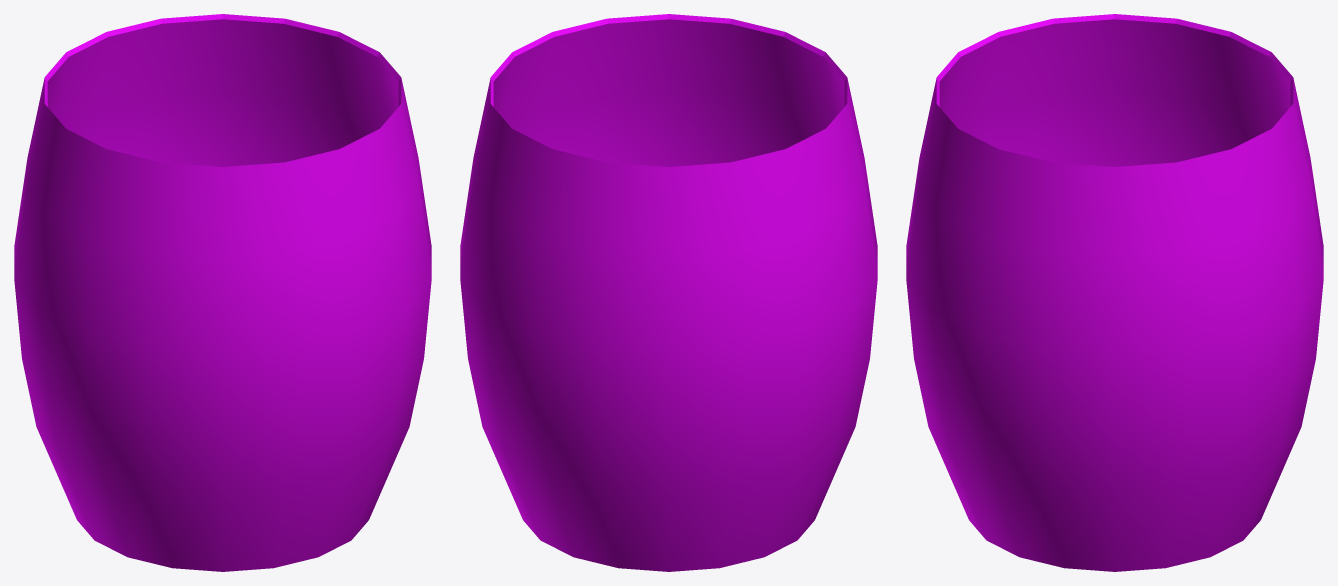
The model's file is Cup.FBX.
The picture shows the model from 3 angles, left to right: view 1: azimuth 30°, elevation 25°; view 2: azimuth 150°, elevation 25°; view 3: azimuth 270°, elevation 25°; orthographic projection.
Visible parts, largest first — view 1: Potion 004; view 2: Potion 004; view 3: Potion 004.
Part boxes in pixels (x1=…): Potion 004: x1=14, y1=14, x2=431, y2=571; Potion 004: x1=460, y1=14, x2=877, y2=571; Potion 004: x1=906, y1=14, x2=1323, y2=571.
Size of the model in its own units: 10.79 by 11.76 by 10.63.
